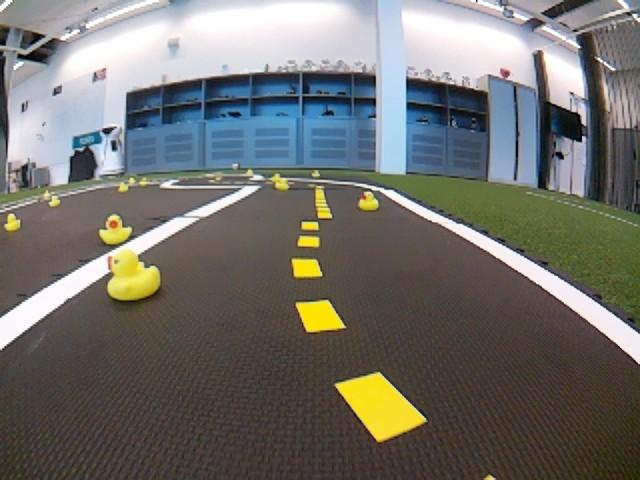Duckies: (106, 249, 159, 302), (99, 214, 132, 246), (357, 191, 379, 211), (3, 214, 19, 231), (274, 179, 290, 191), (118, 182, 129, 192), (271, 174, 284, 182), (49, 198, 61, 206), (139, 177, 147, 187), (128, 177, 136, 185), (311, 170, 320, 177), (212, 174, 221, 180), (43, 193, 50, 199), (246, 170, 254, 175), (215, 176, 223, 180)
